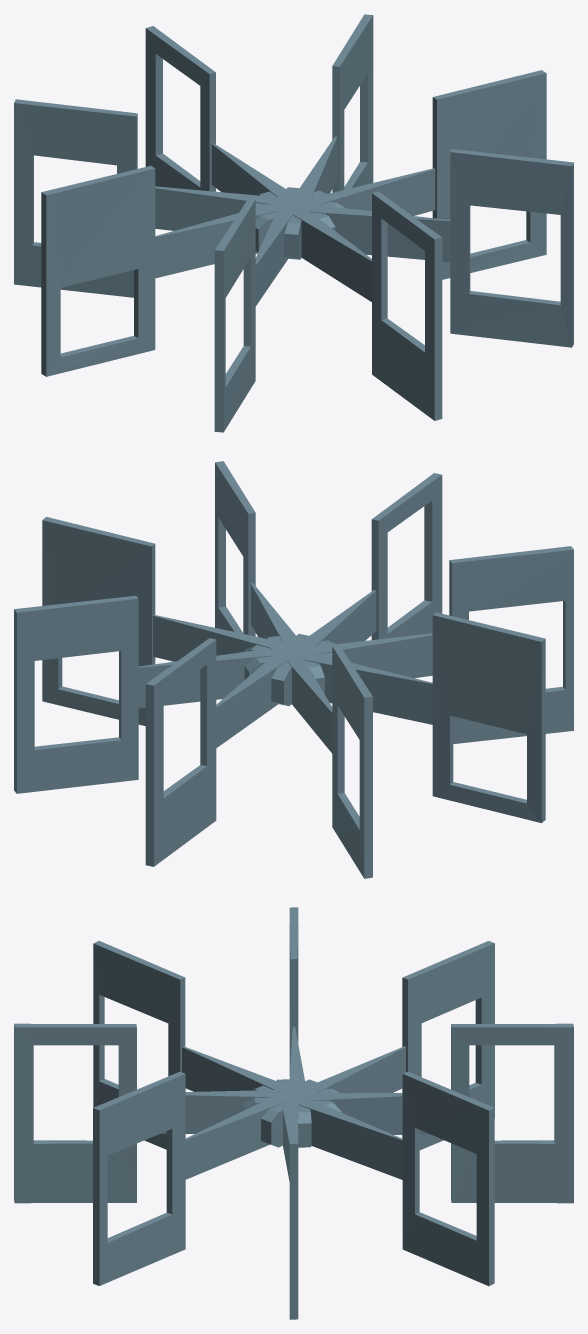
File: spinCallenge.FBX
The picture shows the model from 3 angles, top to bottom: view 1: azimuth 30°, elevation 25°; view 2: azimuth 150°, elevation 25°; view 3: azimuth 270°, elevation 25°; orthographic projection. The views are drawn at different scales.
Visible parts, largest first — view 1: Spinner; view 2: Spinner; view 3: Spinner.
Boxes of the visible parts, <box> form: Spinner: <box>14,14,573,432</box>; Spinner: <box>14,461,573,878</box>; Spinner: <box>14,907,573,1319</box>.
Bounding box in the file's own units: 2571 × 890 × 2571.
